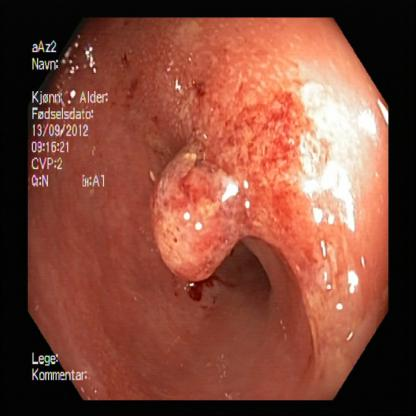Labels: (30, 37, 111, 195), (23, 348, 96, 385)
Polyps: (154, 146, 244, 284)
